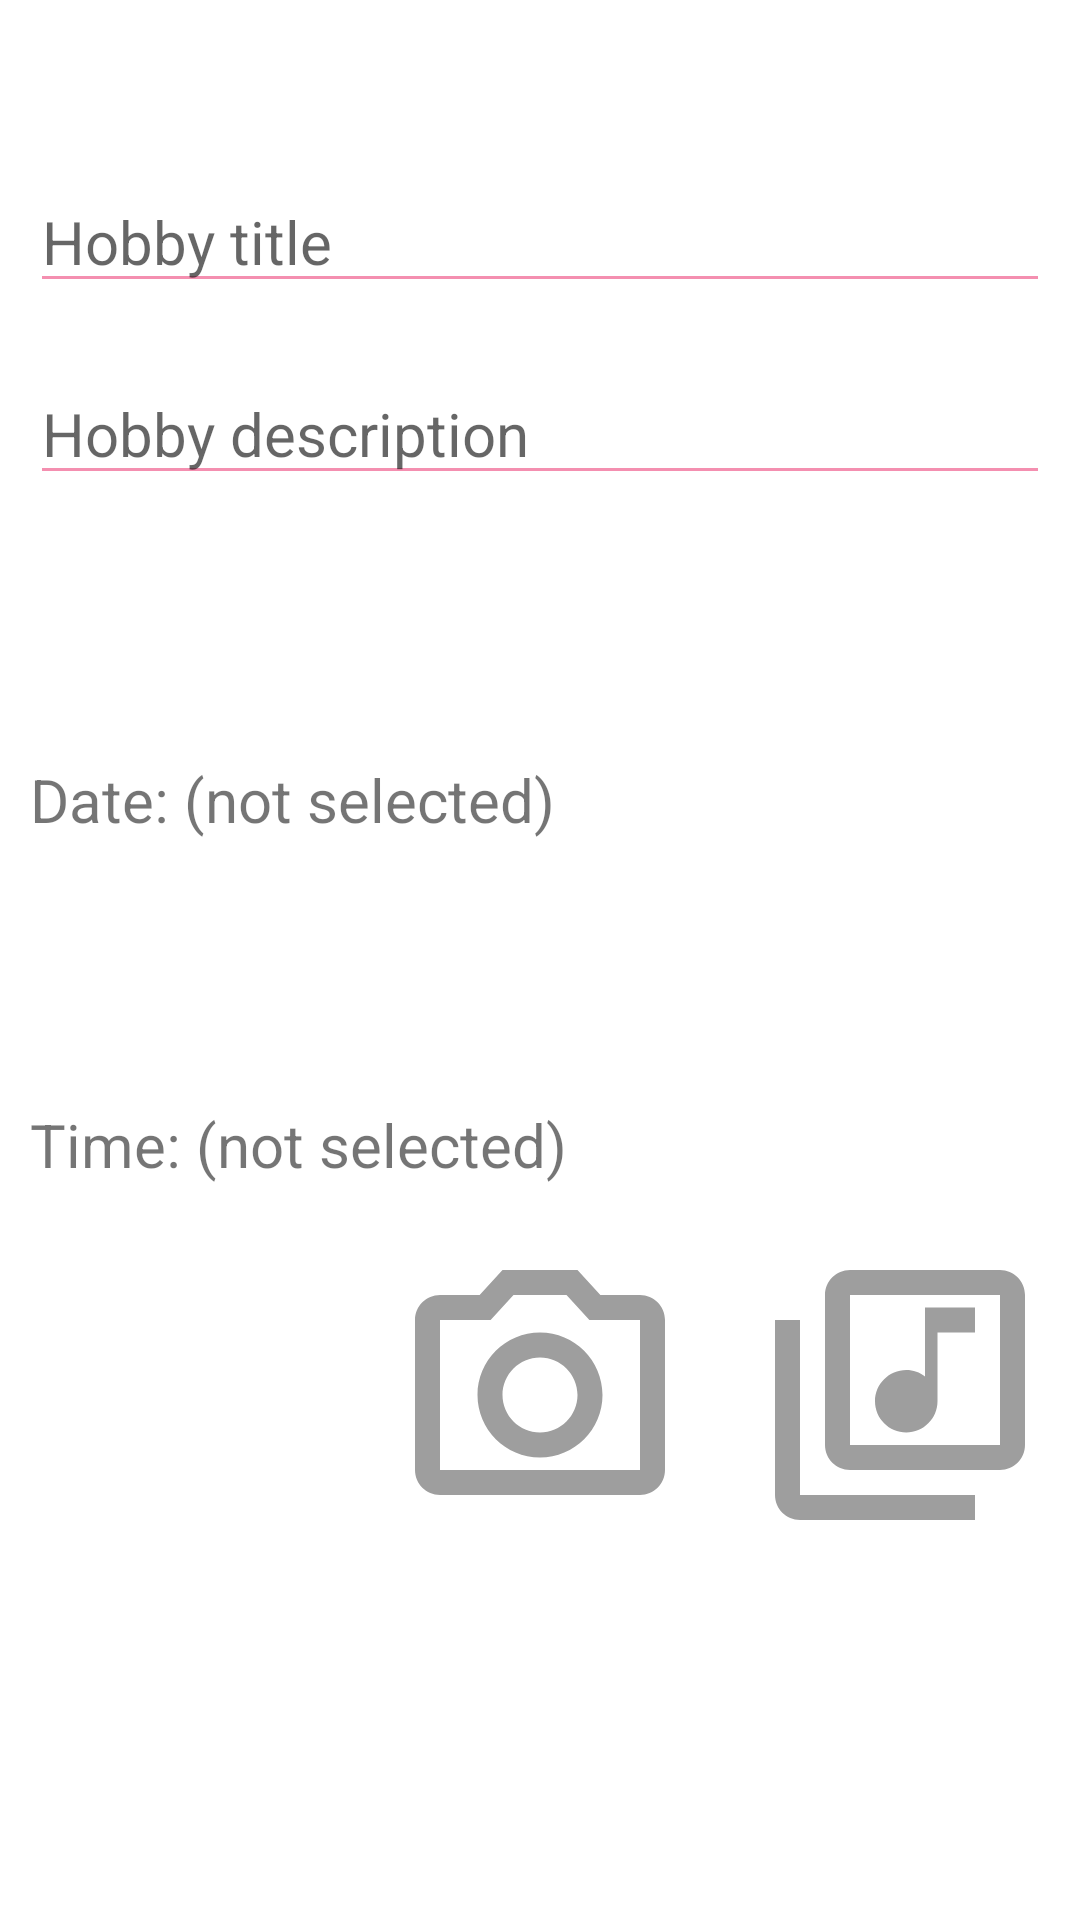

Point at icon controls on the screen. Image size 1080 × 1920, points as point (x, y).
camera: point (540, 1382)
music: point (900, 1395)
